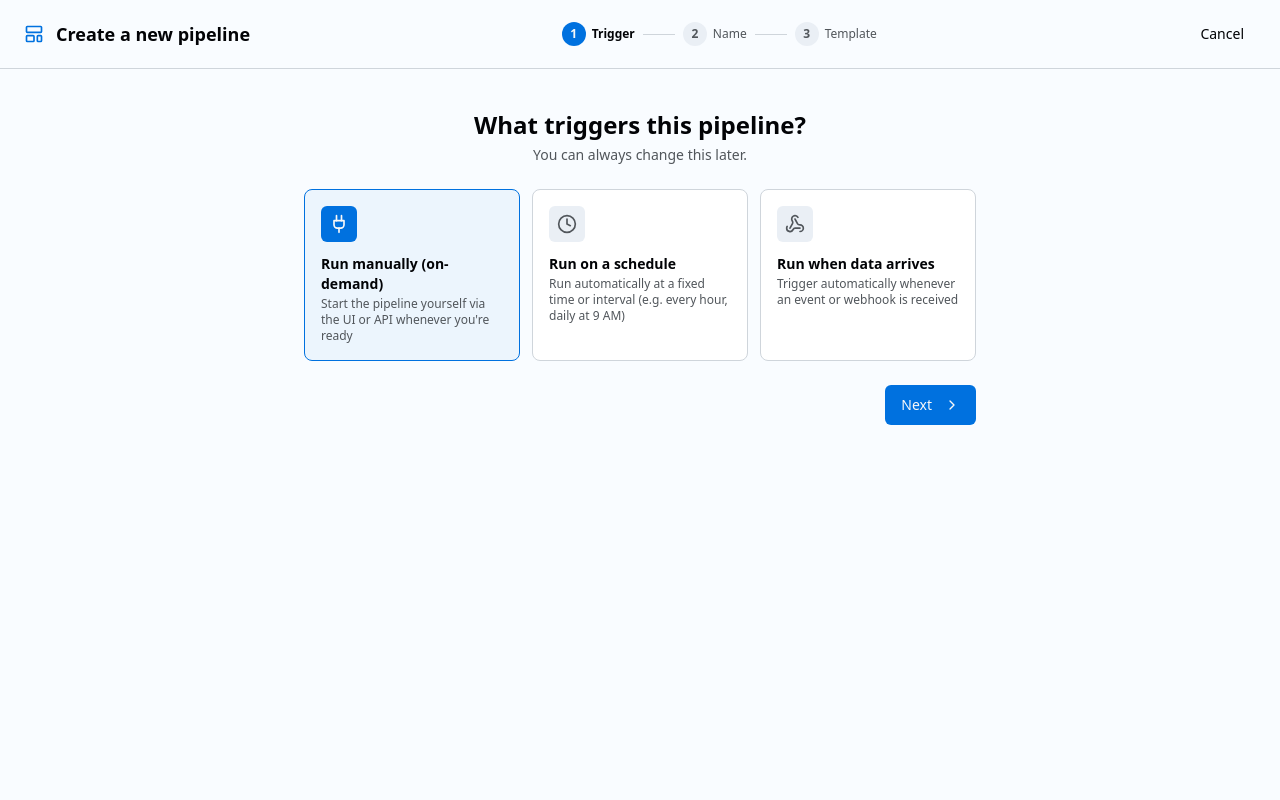
TemplateGallery — Step 1: Trigger › clicking Next advances to step 2
What coordinates should you click on to do the following:
click the button "Next"
I would click on:
 (931, 405)
Its box is [885, 385, 976, 425].
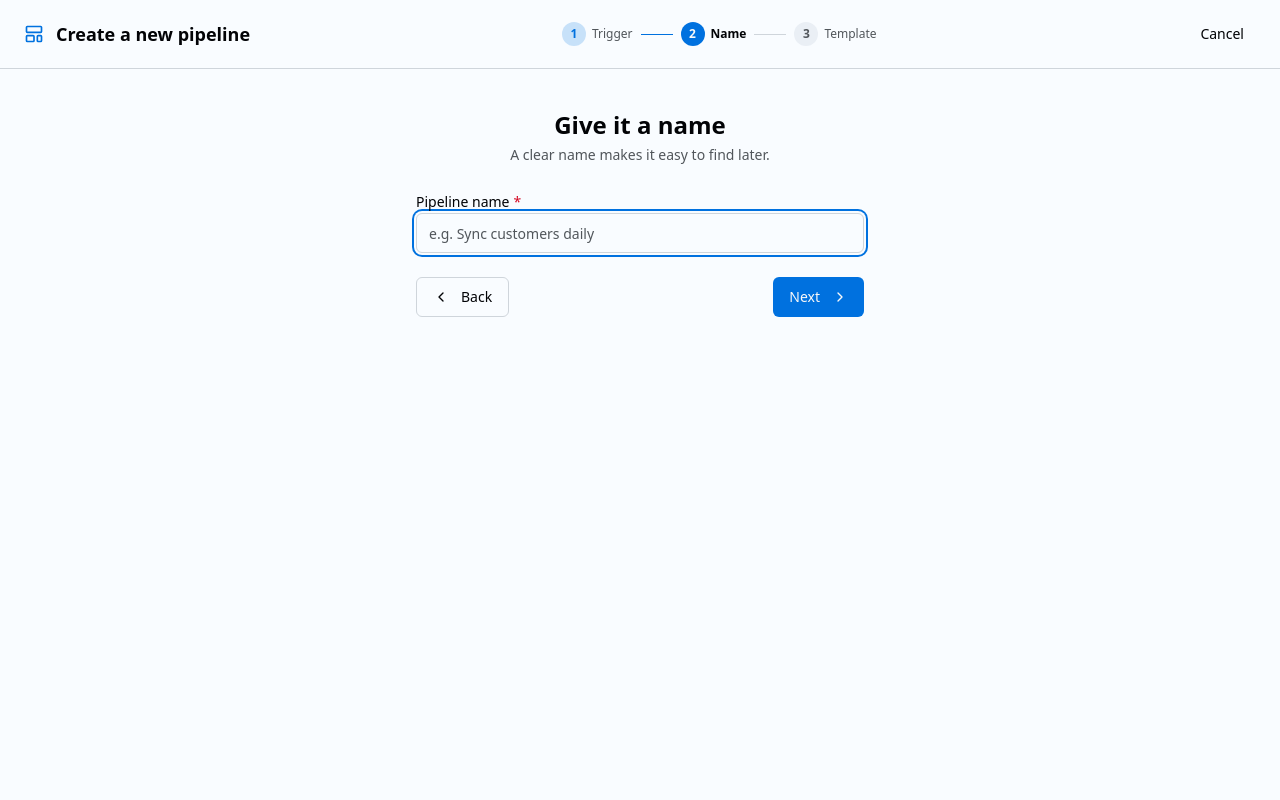
Now the heading "Give it a name" is shown, box [554, 108, 726, 141]
